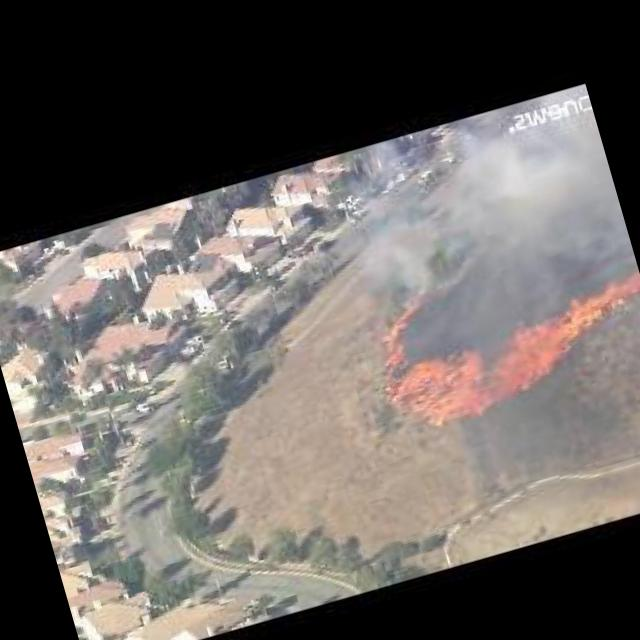fire: (376, 286, 631, 432), (366, 296, 436, 374), (603, 252, 640, 306)
